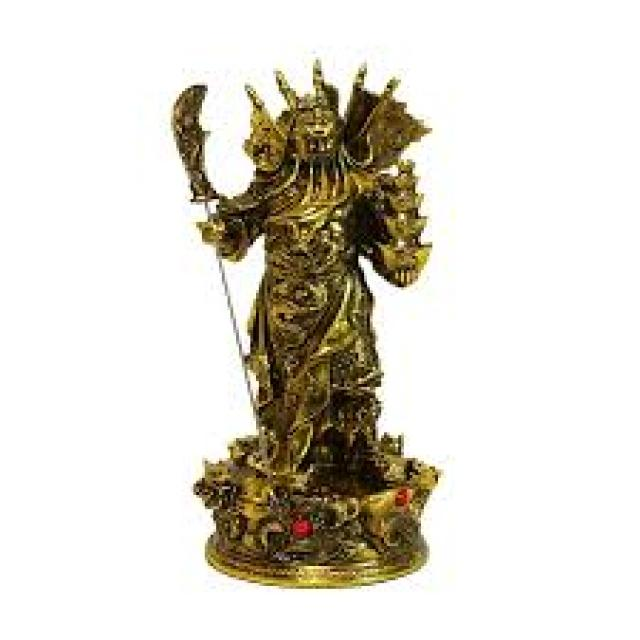Guan Yu: (177, 60, 426, 465)
